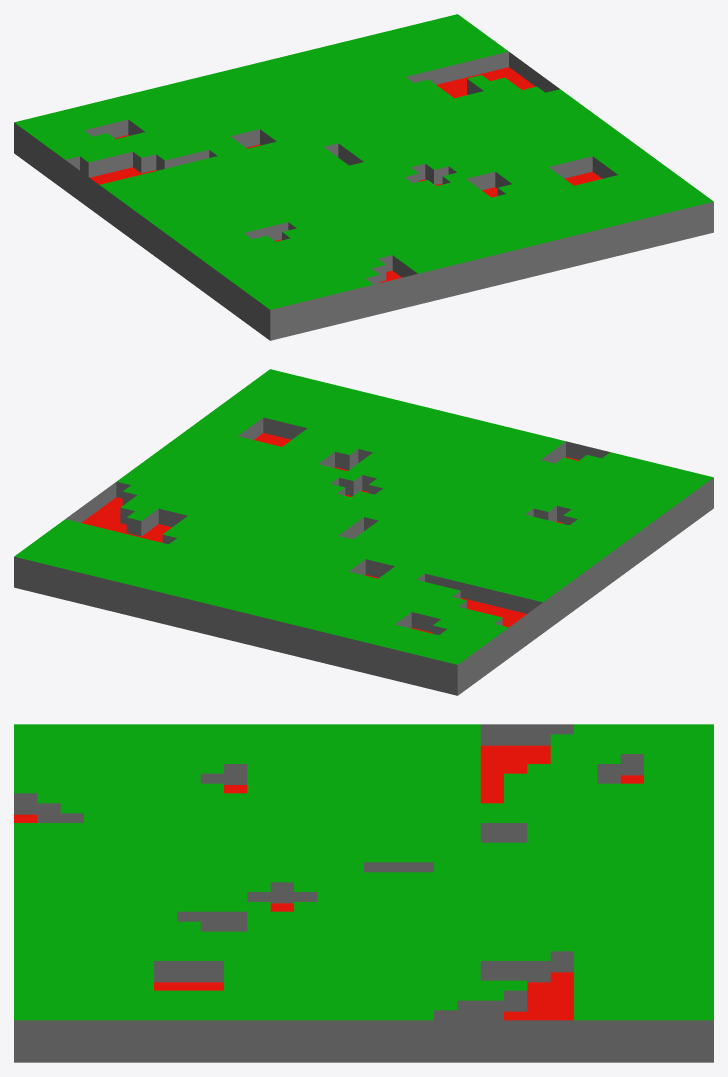
File: 3d_map.gltf
3 views of the same model, one above another, from view 1: azimuth 30°, elevation 25°; view 2: azimuth 150°, elevation 25°; view 3: azimuth 270°, elevation 25° (orthographic). The views are drawn at different scales.
Parts seen in each view (by area): view 1: Cube; view 2: Cube; view 3: Cube.
Part boxes in pixels (x1,y1,x2,y2): Cube: (14, 14, 713, 340); Cube: (14, 369, 713, 695); Cube: (14, 724, 713, 1062).
Size of the model in its own units: 30 by 2 by 30.
3 materials, 3 textured.
